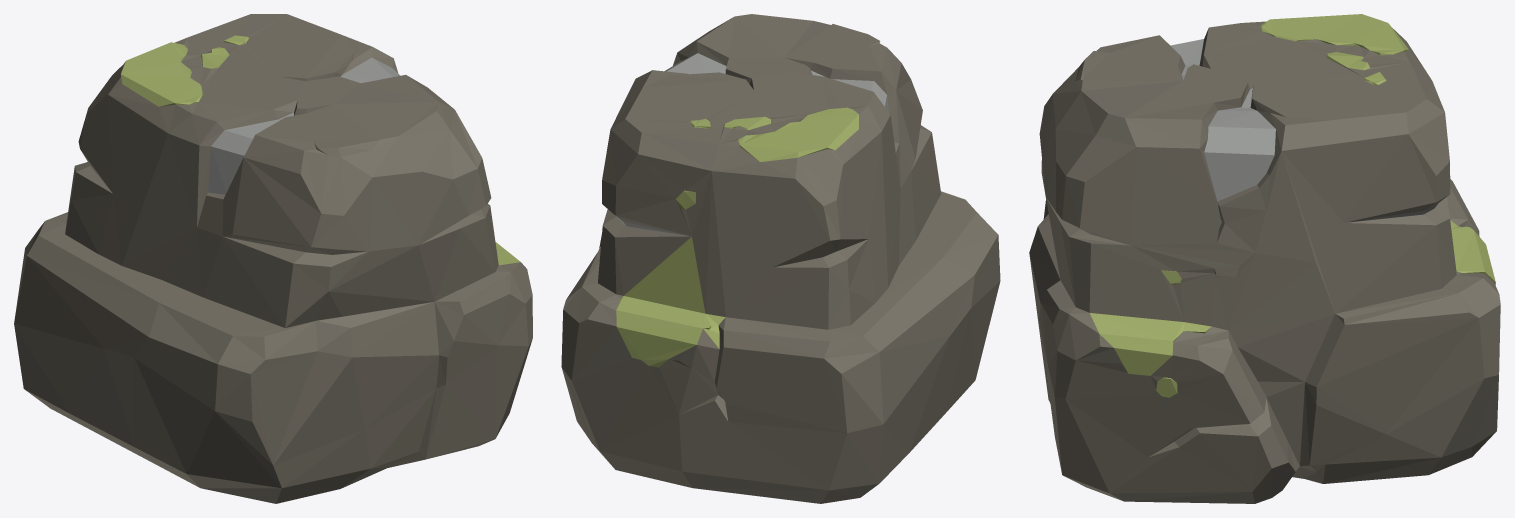
The model's file is MossyBoulder.fbx.
The picture shows the model from 3 angles, left to right: view 1: azimuth 30°, elevation 25°; view 2: azimuth 150°, elevation 25°; view 3: azimuth 270°, elevation 25°; orthographic projection. The views are drawn at different scales.
Parts seen in each view (by area): view 1: MossyBoulder_LOD0; view 2: MossyBoulder_LOD0; view 3: MossyBoulder_LOD0.
Part boxes in pixels (box(x1,y1,x2,y2)): MossyBoulder_LOD0: box(14, 14, 532, 503); MossyBoulder_LOD0: box(561, 14, 1000, 503); MossyBoulder_LOD0: box(1029, 14, 1500, 503).
Size of what is drawn, in the model's own units: 1.11 by 1.13 by 0.9506.
